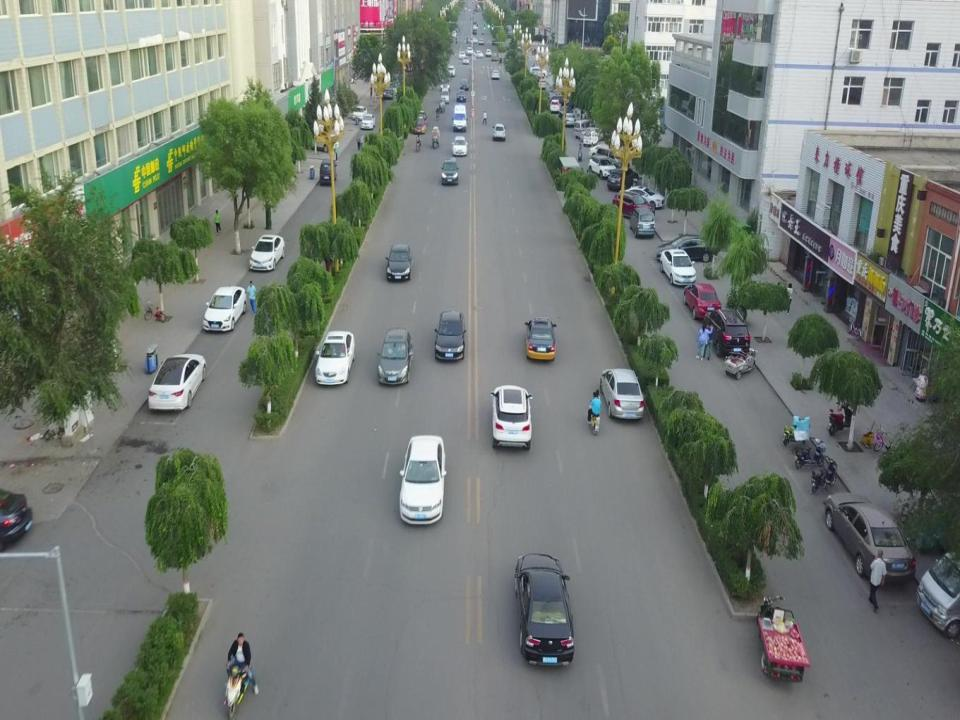car: (824, 491, 916, 583), (513, 552, 575, 670), (399, 431, 447, 528), (147, 352, 208, 415), (918, 549, 960, 640), (490, 384, 533, 451), (599, 366, 646, 422), (312, 328, 356, 387), (702, 308, 752, 356), (201, 283, 247, 334), (378, 327, 414, 386), (434, 308, 467, 360), (656, 234, 713, 264), (248, 233, 286, 274), (683, 281, 720, 319), (657, 248, 695, 285), (525, 316, 555, 360), (612, 188, 654, 216), (626, 184, 664, 212), (388, 243, 412, 281), (606, 166, 640, 190), (630, 206, 654, 237), (589, 153, 617, 179), (595, 144, 623, 167), (441, 158, 458, 185), (319, 158, 336, 185), (452, 103, 466, 132), (590, 143, 618, 157), (580, 126, 605, 141), (452, 136, 468, 156), (352, 104, 367, 122), (413, 115, 426, 134), (493, 122, 506, 140), (361, 114, 375, 130), (530, 65, 548, 77), (548, 97, 560, 113), (381, 85, 394, 99), (562, 113, 576, 125), (558, 105, 571, 117), (536, 74, 547, 88), (417, 110, 428, 122), (457, 88, 466, 102), (440, 88, 449, 102), (460, 78, 470, 90), (442, 78, 450, 90), (446, 65, 455, 75), (491, 70, 499, 79), (462, 55, 470, 64), (474, 50, 482, 57), (467, 46, 473, 55), (486, 48, 492, 56), (470, 37, 478, 43), (459, 51, 465, 58), (492, 53, 498, 60), (451, 30, 457, 37), (479, 39, 484, 44), (473, 25, 476, 32)
van: (574, 118, 595, 138)
